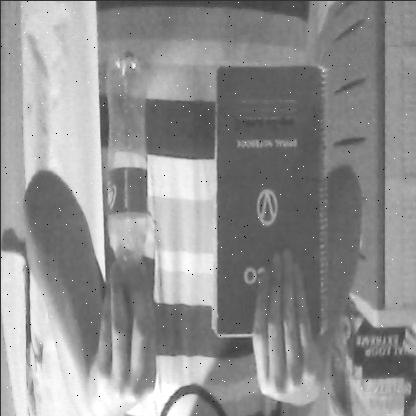Plastic Bottle: (101, 40, 153, 298)
